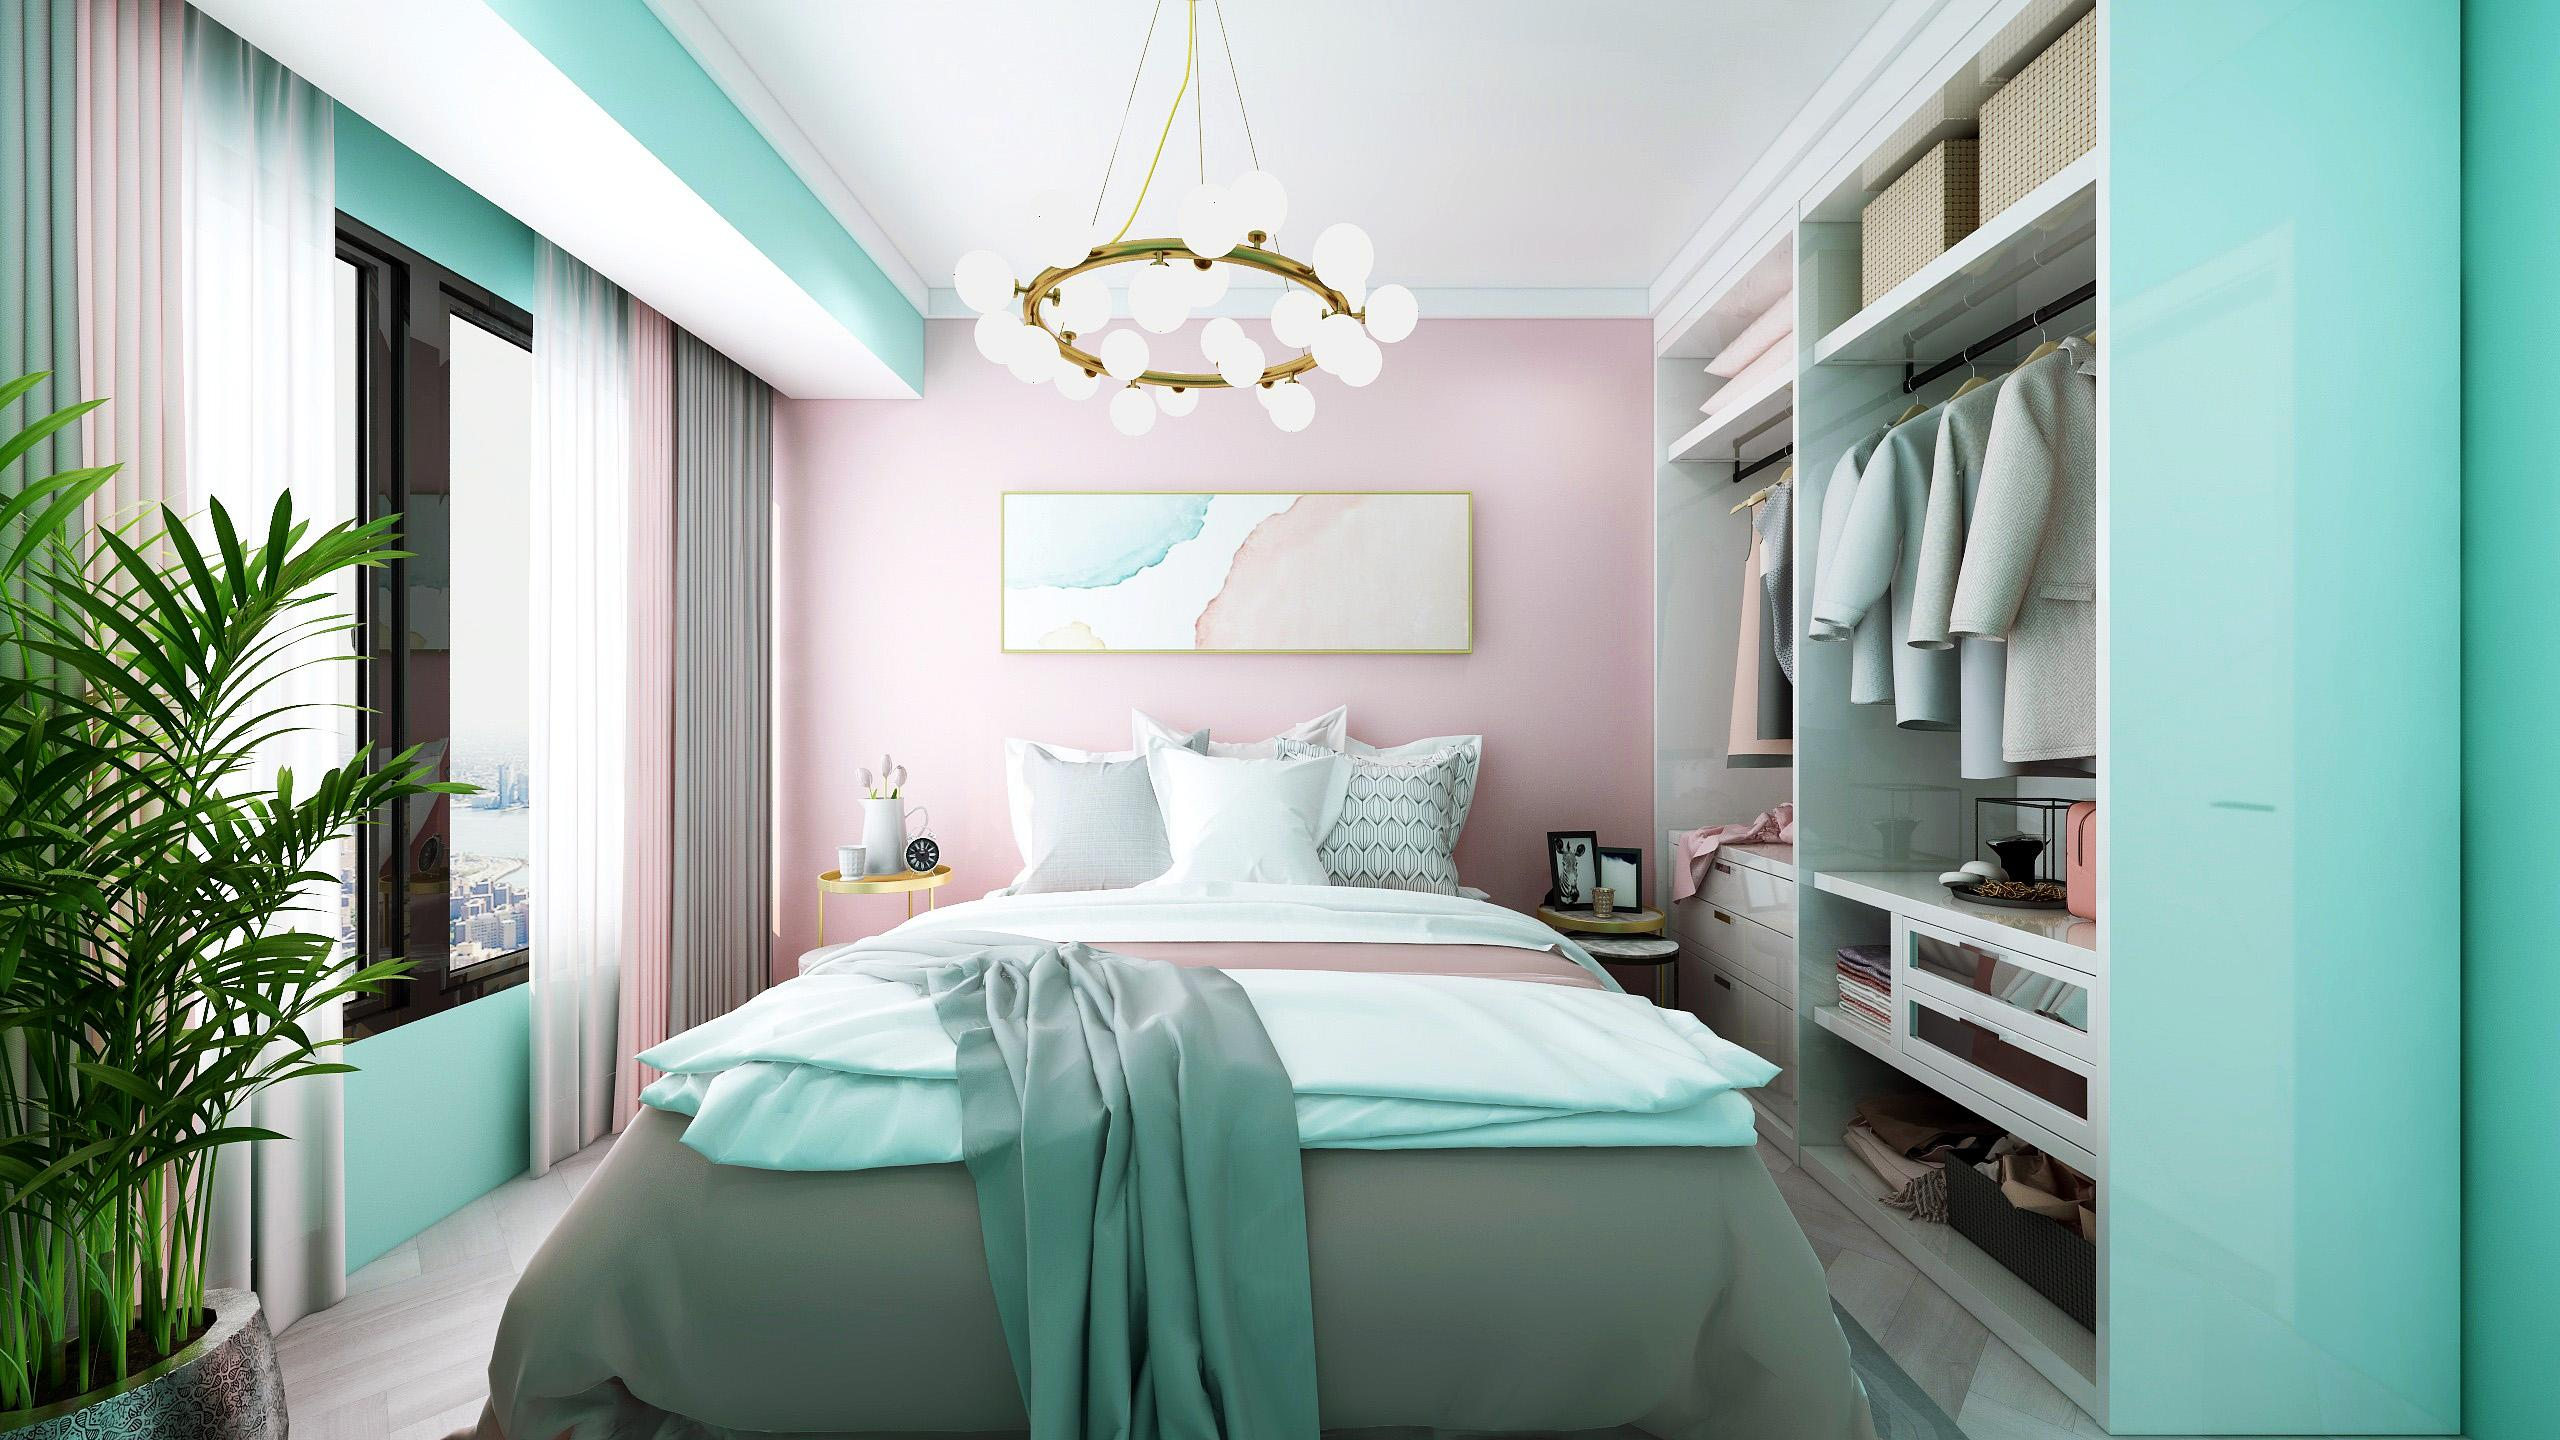床: (550, 872, 1834, 1414)
枕头: (997, 731, 1489, 920)
灯: (986, 26, 1431, 445)
